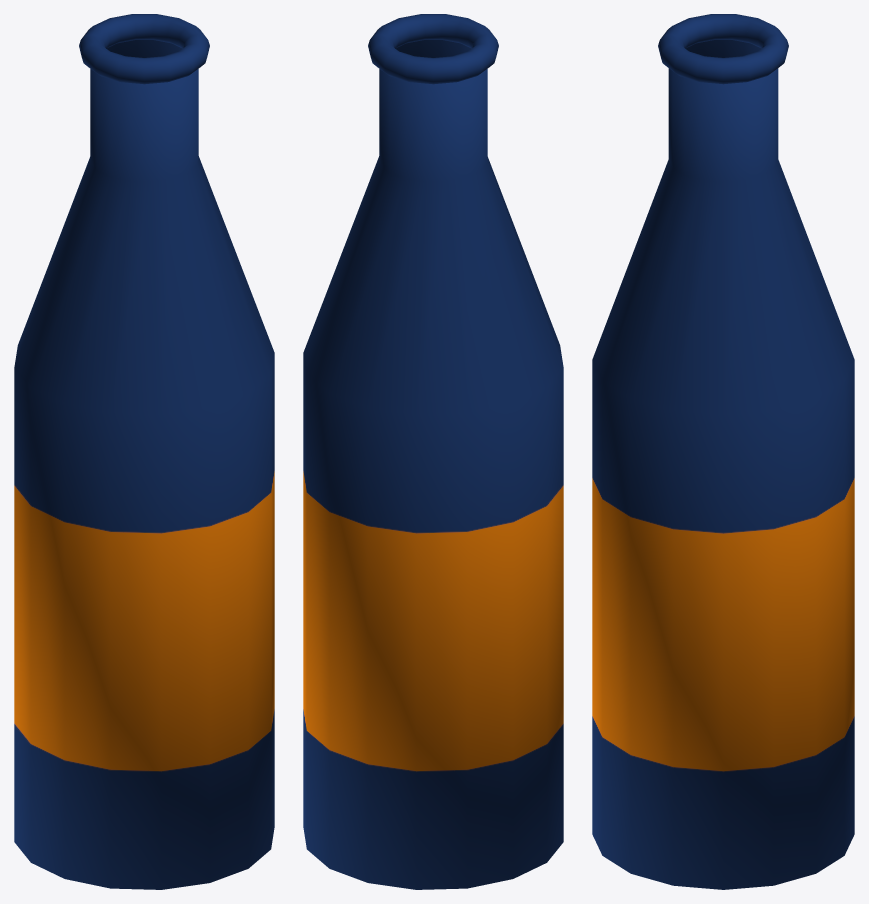
File: bouteille2.fbx
3 renders of one model, left to right at view 1: azimuth 30°, elevation 25°; view 2: azimuth 150°, elevation 25°; view 3: azimuth 270°, elevation 25°, orthographic.
Visible parts, largest first — view 1: Cylinder, Torus; view 2: Cylinder, Torus; view 3: Cylinder, Torus.
Boxes of the visible parts, <box> form: Cylinder: <box>14,40,274,889</box>; Torus: <box>79,14,209,84</box>; Cylinder: <box>303,40,563,889</box>; Torus: <box>368,14,498,84</box>; Cylinder: <box>592,40,854,889</box>; Torus: <box>658,14,788,84</box>.
Size of the model in its own units: 200 by 672 by 200.
1 material, 1 textured.
